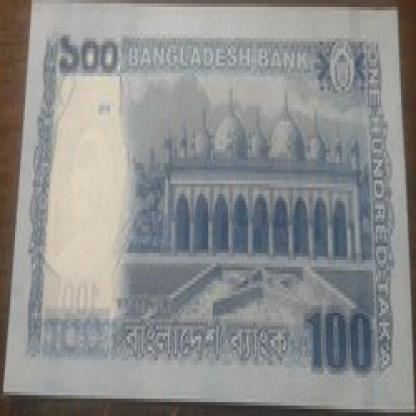one hundred taka: (304, 295, 375, 388), (52, 28, 122, 83)
